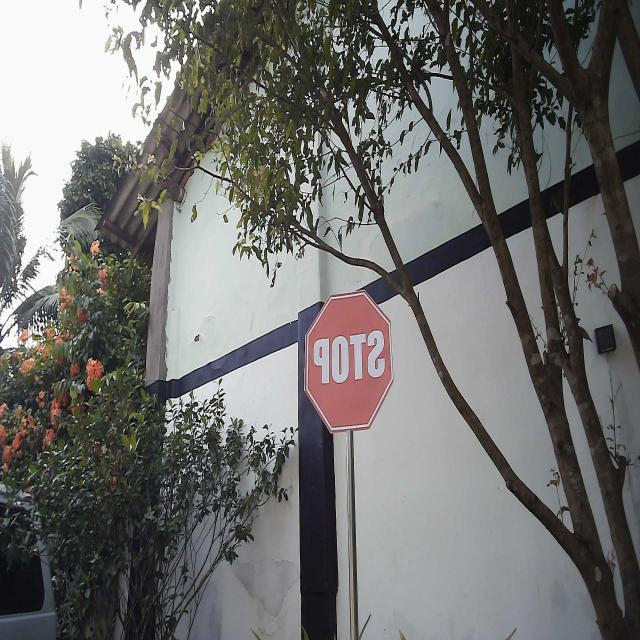stop: (302, 286, 396, 436)
